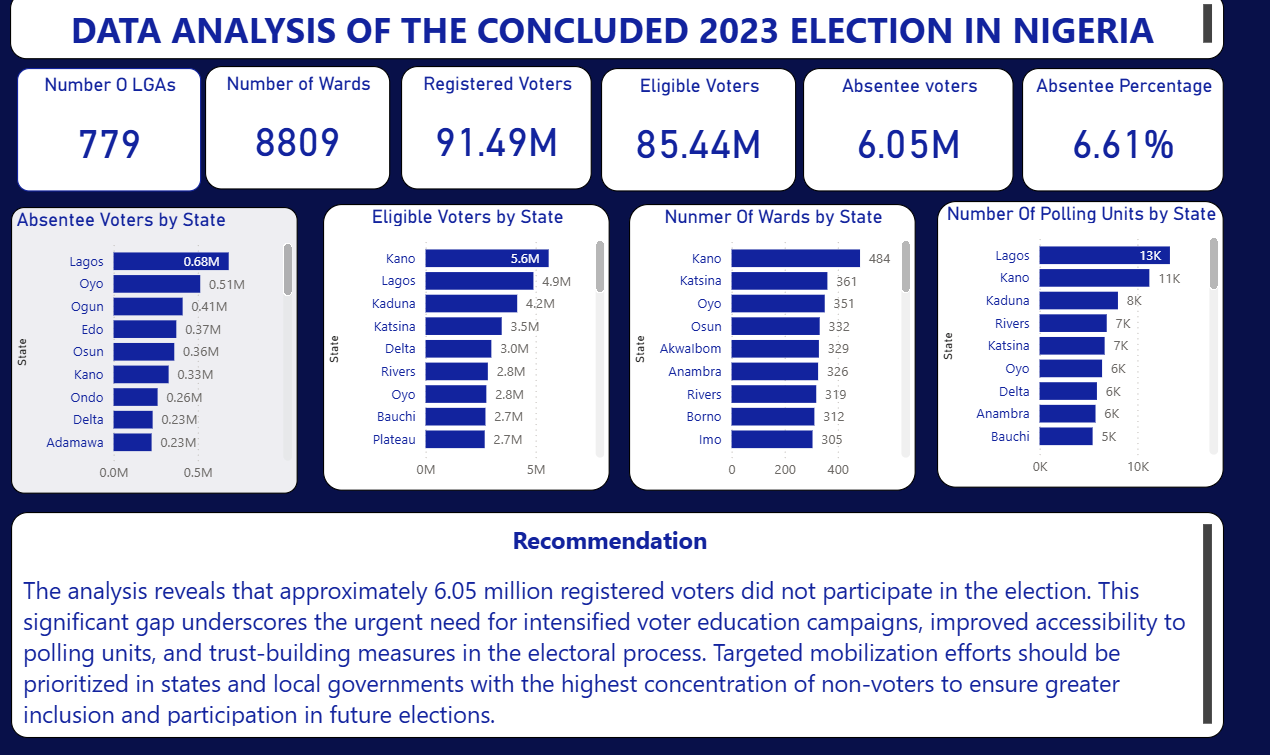

This screenshot's page, from the dashboard's own definition file:
{"tool":"powerbi","page":{"name":"Page 1","canvas":[1280,720],"ordinal":0},"visuals":[{"type":"card","title":"Number O LGAs","fields":{"Values":["Sum(nigeria_2023_federalConstituencies_data.NoOfLGAs)"]},"box":[140.6,91.6,166.9,111.5],"z":0},{"type":"card","title":"Number of Wards","fields":{"Values":["Sum(nigeria_2023_federalConstituencies_data.NoOfWards)"]},"box":[311,89.8,167.8,111.5],"z":1000},{"type":"card","title":"Registered Voters","fields":{"Values":["nigeria_2023_federalConstituencies_data.sumofregisteredvoters"]},"box":[488.8,89.8,173.2,111.5],"z":2000},{"type":"card","title":"Eligible Voters","fields":{"Values":["nigeria_2023_federalConstituencies_data.Sumofeligablevoters"]},"box":[670.1,91.6,176.8,112.4],"z":3000},{"type":"barChart","title":"Eligible Voters by State","fields":{"Category":["nigeria_2023_federalConstituencies_data.State"],"Y":["Sum(nigeria_2023_federalConstituencies_data.EligibleVoters)"]},"box":[418,214.9,260.3,260],"z":4000},{"type":"barChart","title":"Nunmer Of Wards by State","fields":{"Y":["Sum(nigeria_2023_federalConstituencies_data.NoOfWards)"],"Category":["nigeria_2023_federalConstituencies_data.State"]},"box":[695.5,214.9,260,260],"z":5000},{"type":"barChart","title":" Number Of Polling Units by State","fields":{"Category":["nigeria_2023_federalConstituencies_data.State"],"Y":["Sum(nigeria_2023_federalConstituencies_data.NoOfPollingUnits)"]},"box":[974.8,212.2,260,260],"z":6000},{"type":"card","title":"Absentee voters","fields":{"Values":["nigeria_2023_federalConstituencies_data.absenteevoters"]},"box":[853.3,91.6,191.3,112.4],"z":7000},{"type":"textbox","box":[134.2,22.7,1100.9,60.8],"z":8000},{"type":"barChart","title":"Absentee Voters by State","fields":{"Y":["nigeria_2023_federalConstituencies_data.absenteevoters"],"Category":["nigeria_2023_federalConstituencies_data.State"]},"box":[135.1,217.6,260,260],"z":9000},{"type":"textbox","box":[135.1,494.2,1099.9,204.9],"z":10000},{"type":"card","title":"Absentee Percentage","fields":{"Values":["nigeria_2023_federalConstituencies_data.absenteepercentage"]},"box":[1051.9,91.6,183.2,112.4],"z":10001}]}

Visuals, with their boxes on the page's 1280x720 design canvas (x1, y1, x2, y2). These are canvas units, not pixel positions in the 1270x755 screenshot, which may show the page scaled, cropped or inside an application window:
"Number O LGAs" card: Rect(141, 92, 308, 203)
"Number of Wards" card: Rect(311, 90, 479, 201)
"Registered Voters" card: Rect(489, 90, 662, 201)
"Eligible Voters" card: Rect(670, 92, 847, 204)
"Eligible Voters by State" barChart: Rect(418, 215, 678, 475)
"Nunmer Of Wards by State" barChart: Rect(696, 215, 956, 475)
" Number Of Polling Units by State" barChart: Rect(975, 212, 1235, 472)
"Absentee voters" card: Rect(853, 92, 1045, 204)
textbox: Rect(134, 23, 1235, 84)
"Absentee Voters by State" barChart: Rect(135, 218, 395, 478)
textbox: Rect(135, 494, 1235, 699)
"Absentee Percentage" card: Rect(1052, 92, 1235, 204)
